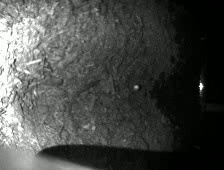corn: (133, 84, 140, 91)
